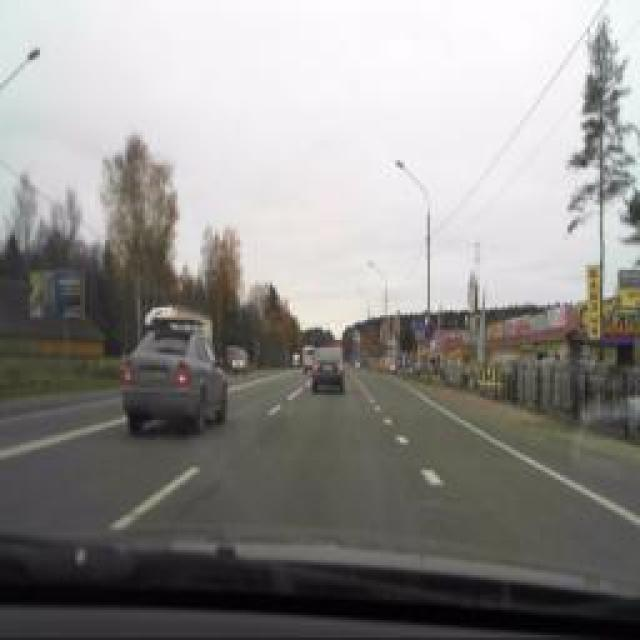sign: (410, 318, 422, 332)
